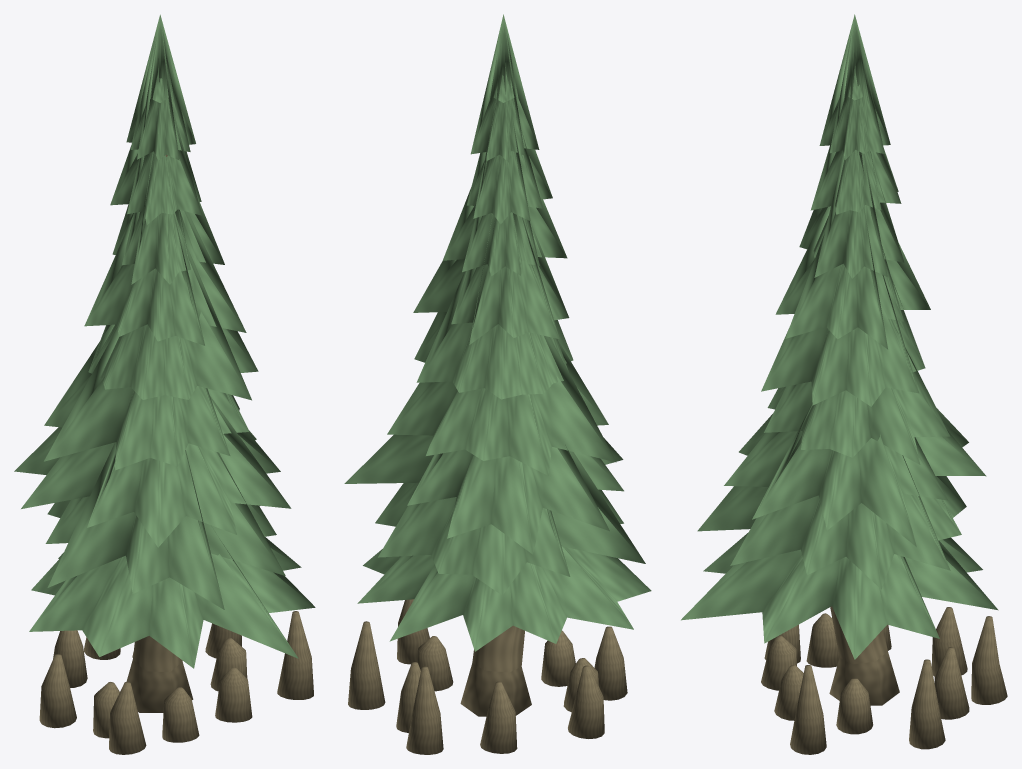
File: mangrove_red.glb
3 renders of one model, left to right at view 1: azimuth 30°, elevation 25°; view 2: azimuth 150°, elevation 25°; view 3: azimuth 270°, elevation 25°, orthographic.
Parts seen in each view (by area): view 1: bald-cypress; view 2: bald-cypress; view 3: bald-cypress.
Boxes of the visible parts, <box> form: bald-cypress: <box>14,14,315,754</box>; bald-cypress: <box>344,14,651,754</box>; bald-cypress: <box>681,14,1007,754</box>.
Size of the model in its own units: 3.48 by 8.43 by 3.68.
2 materials, 2 textured.
